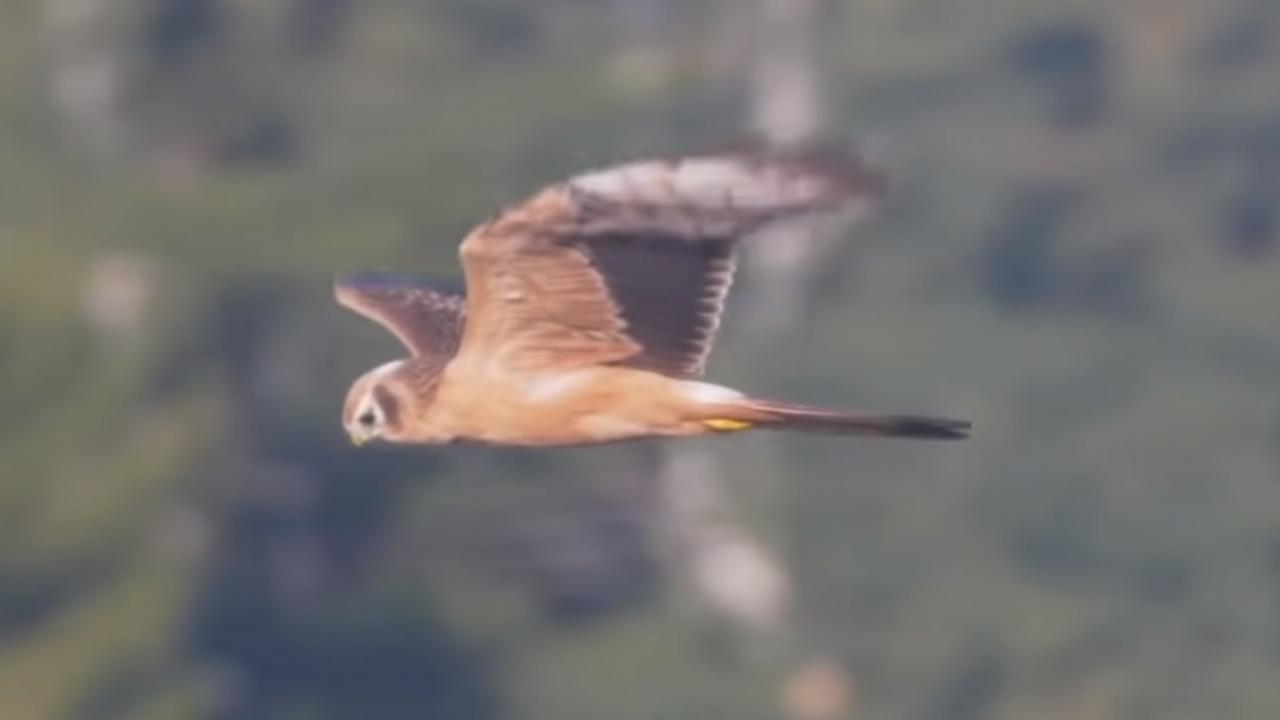Bird: (310, 131, 1004, 458)
